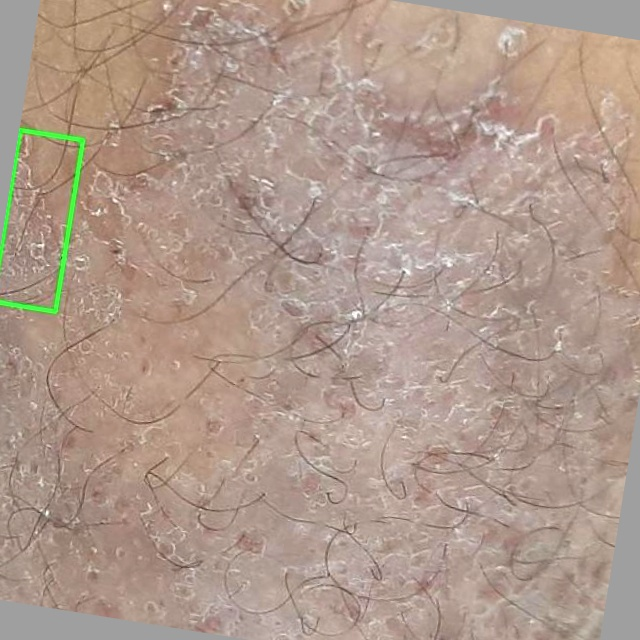Eczema: (0, 130, 83, 311)
